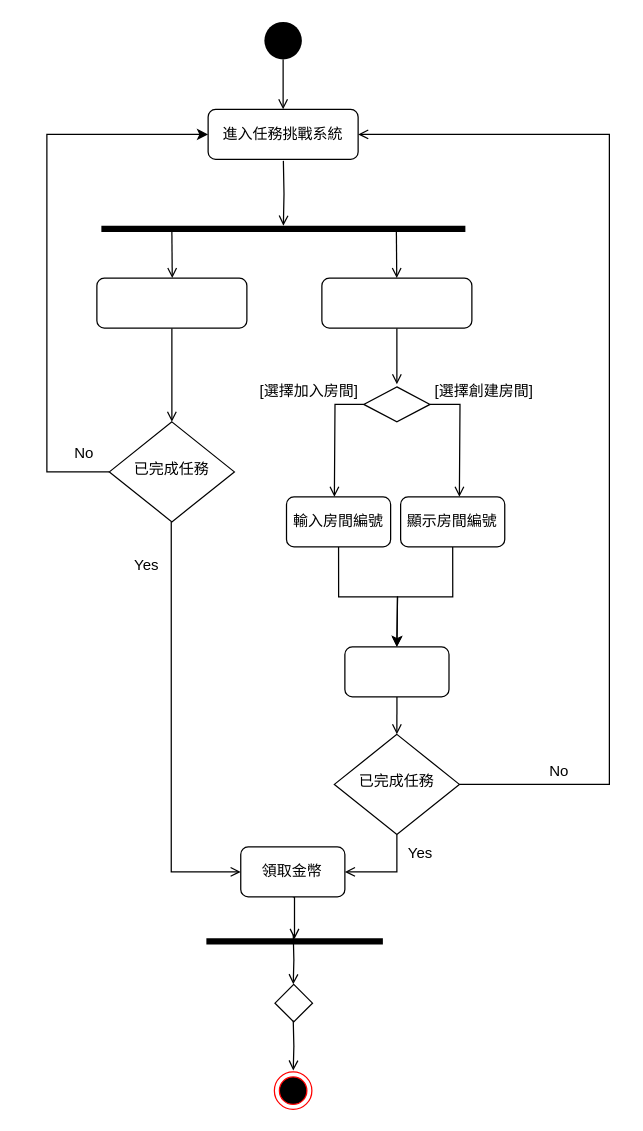
The diagram is 643 pixels wide and 1131 high, and some of its shapes have lost their labels. The shapes that lost their labels are listed below. From the top down, each one's centre as x and y in pixels, then its label:
At pixel 171 302: "每日任務".
At pixel 396 302: "團體任務".
At pixel 396 671: "開始跑步".
